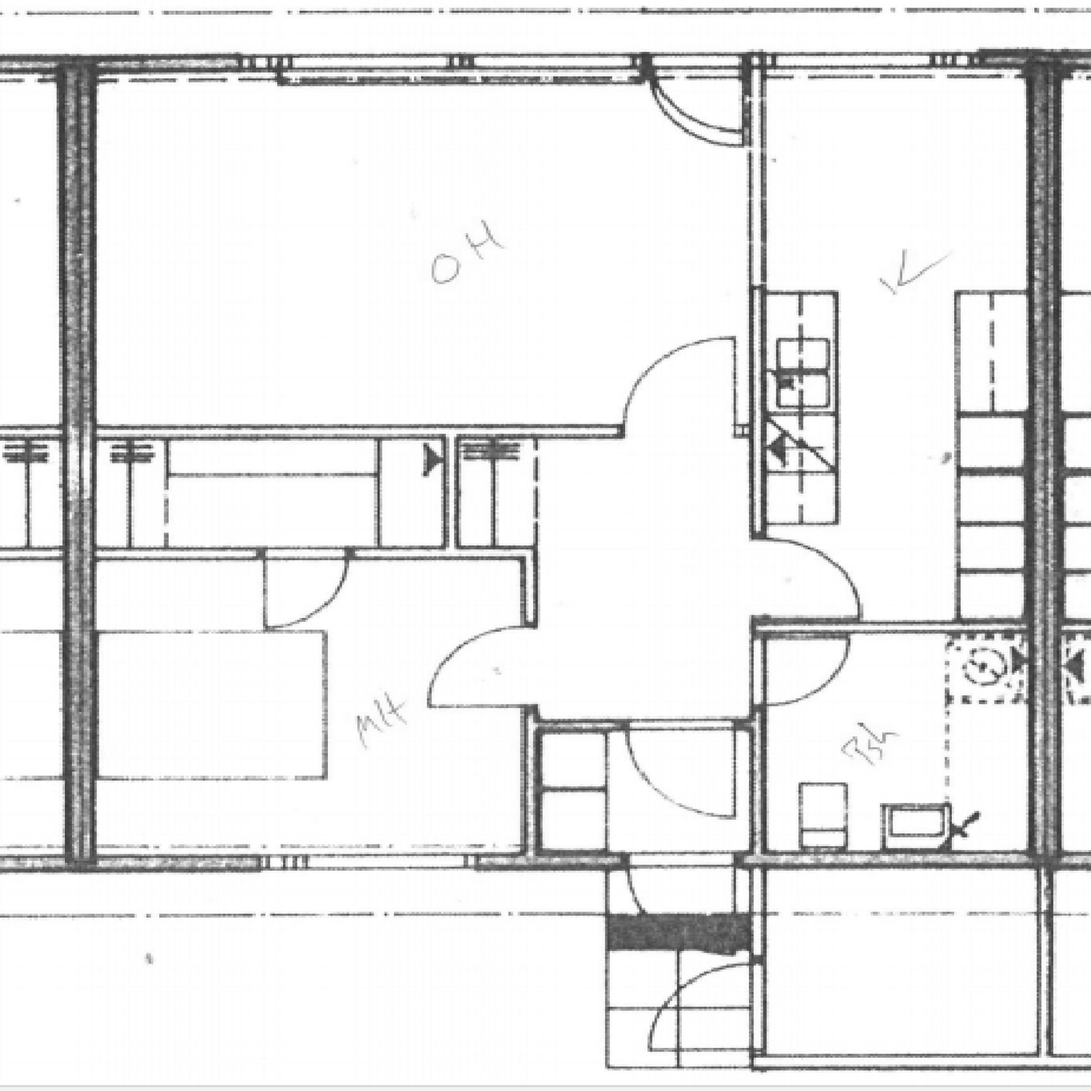wall: (64, 55, 94, 869), (1030, 55, 1060, 869), (64, 854, 1060, 869), (64, 55, 1060, 69), (64, 427, 764, 438), (64, 549, 537, 559), (524, 549, 537, 869), (751, 1055, 1052, 1067), (764, 622, 1059, 633), (751, 632, 764, 869), (1037, 854, 1051, 1067), (751, 427, 764, 633), (524, 720, 764, 731), (751, 869, 764, 1067), (444, 427, 457, 559)
